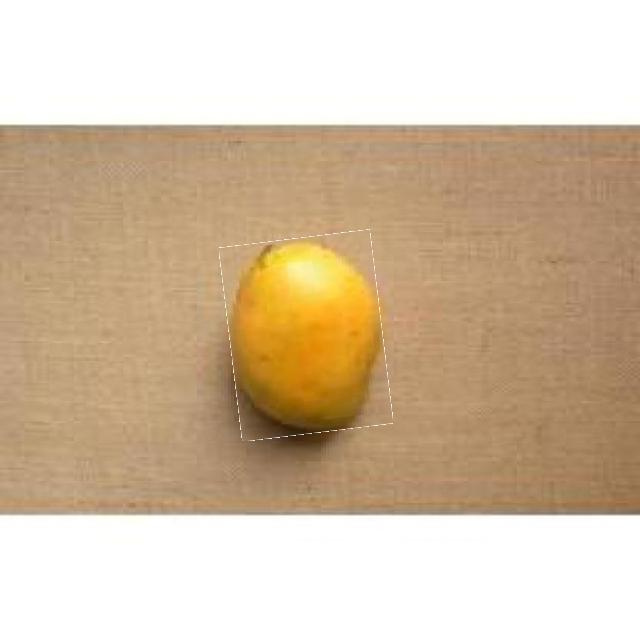mango: (225, 234, 387, 437)
